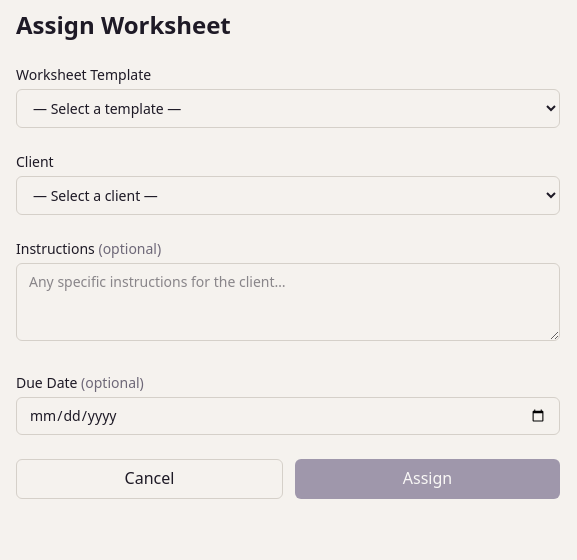
Test: Create assignment page › shows error when API returns success=false on submit
The width and height of the screenshot is (577, 560).
Select "PHQ-9" in the dropdown labelled "Worksheet Template" at (288, 108), box [16,89,560,128]
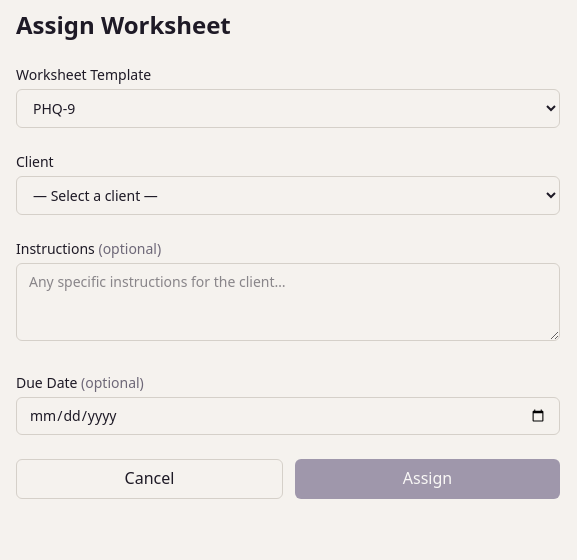
Select "Alice Dube" in the dropdown labelled "Client" at (288, 196), box [16,176,560,215]
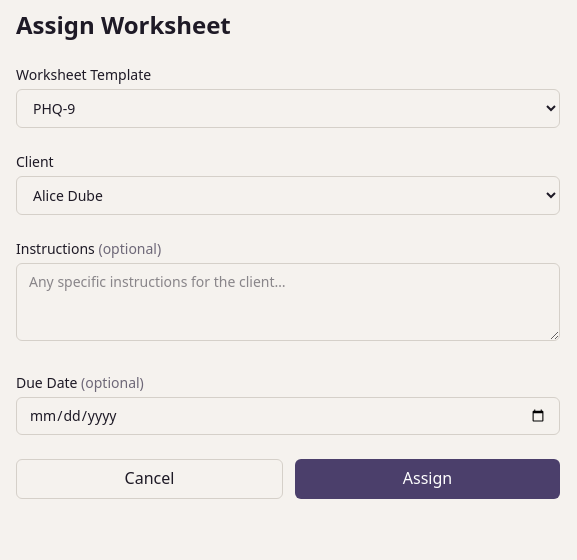
Click the button "Assign" at (428, 479), box [295,459,560,499]
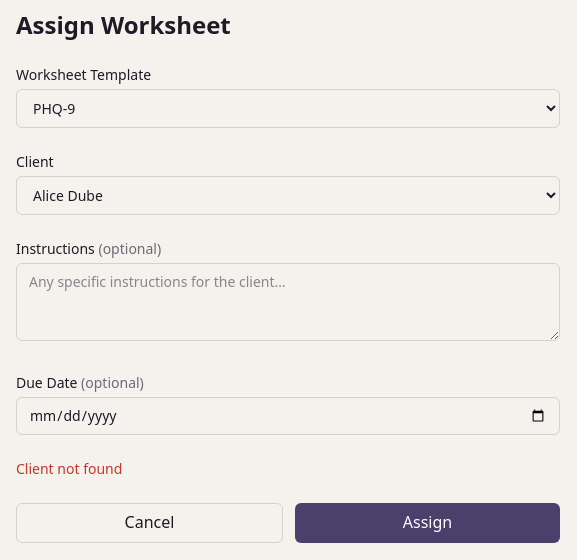
Check: the text "Client not found" is shown, box [16,459,122,478]
